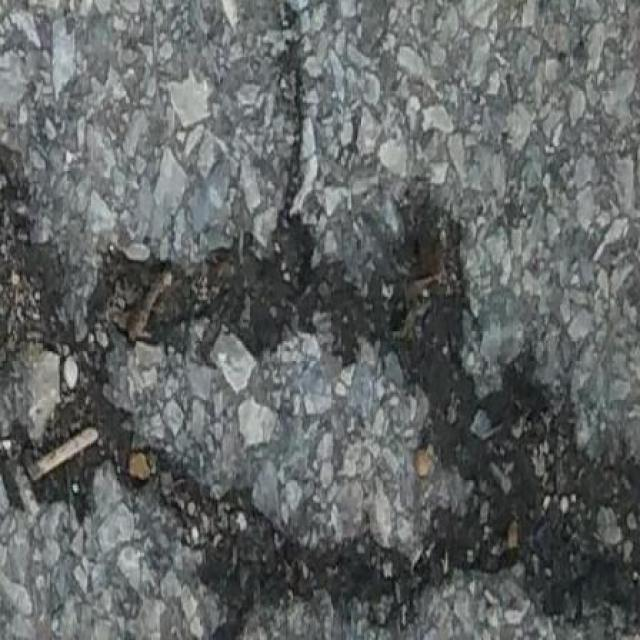Crack: (0, 93, 640, 633), (90, 20, 640, 637), (590, 430, 610, 451)
